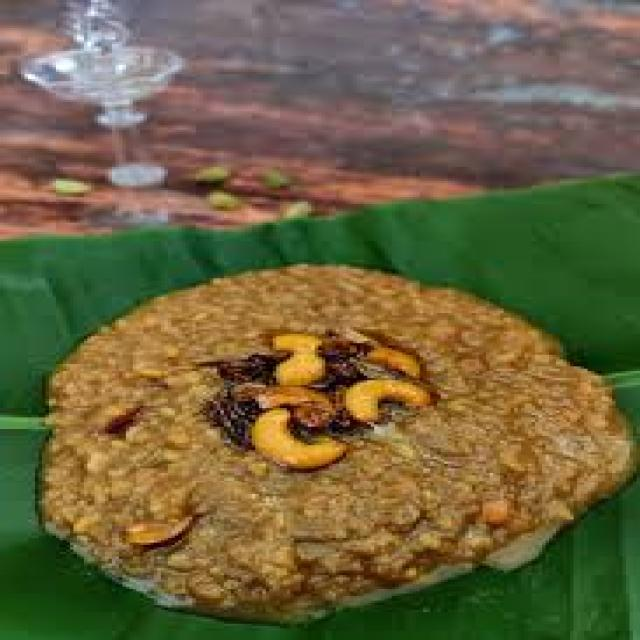PONGAL: (45, 264, 633, 619)
